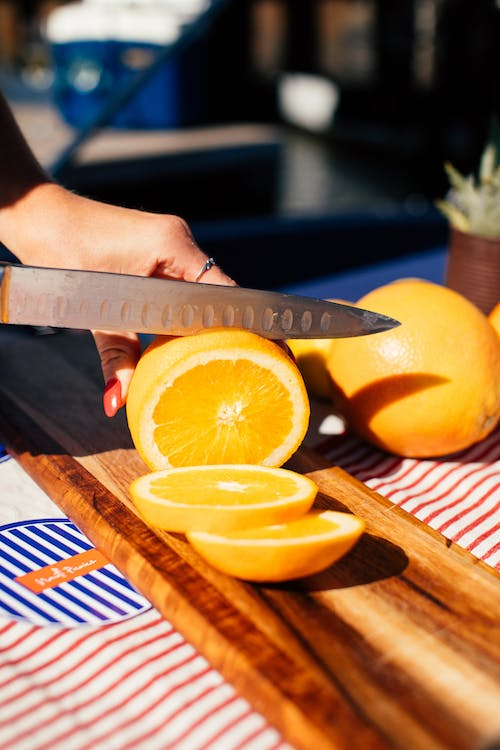knife: (0, 259, 407, 340)
